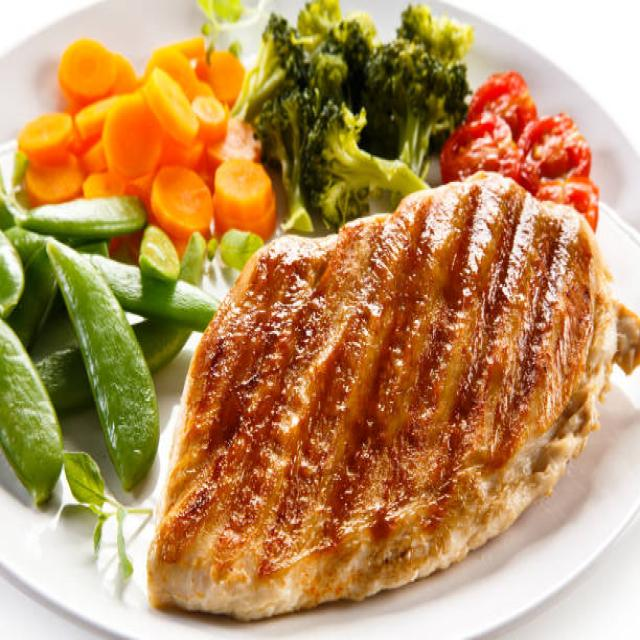Frango: (145, 166, 640, 621)
